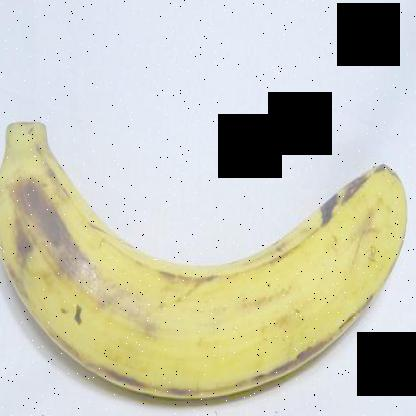overripe: (1, 91, 415, 415)
